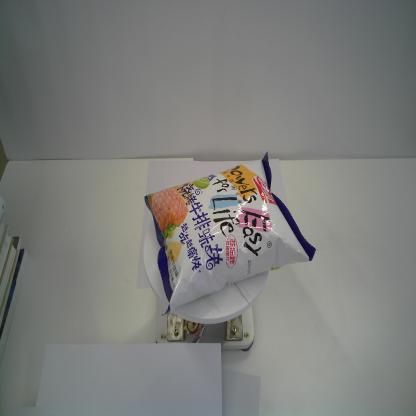Puffed Food: (142, 148, 316, 318)
